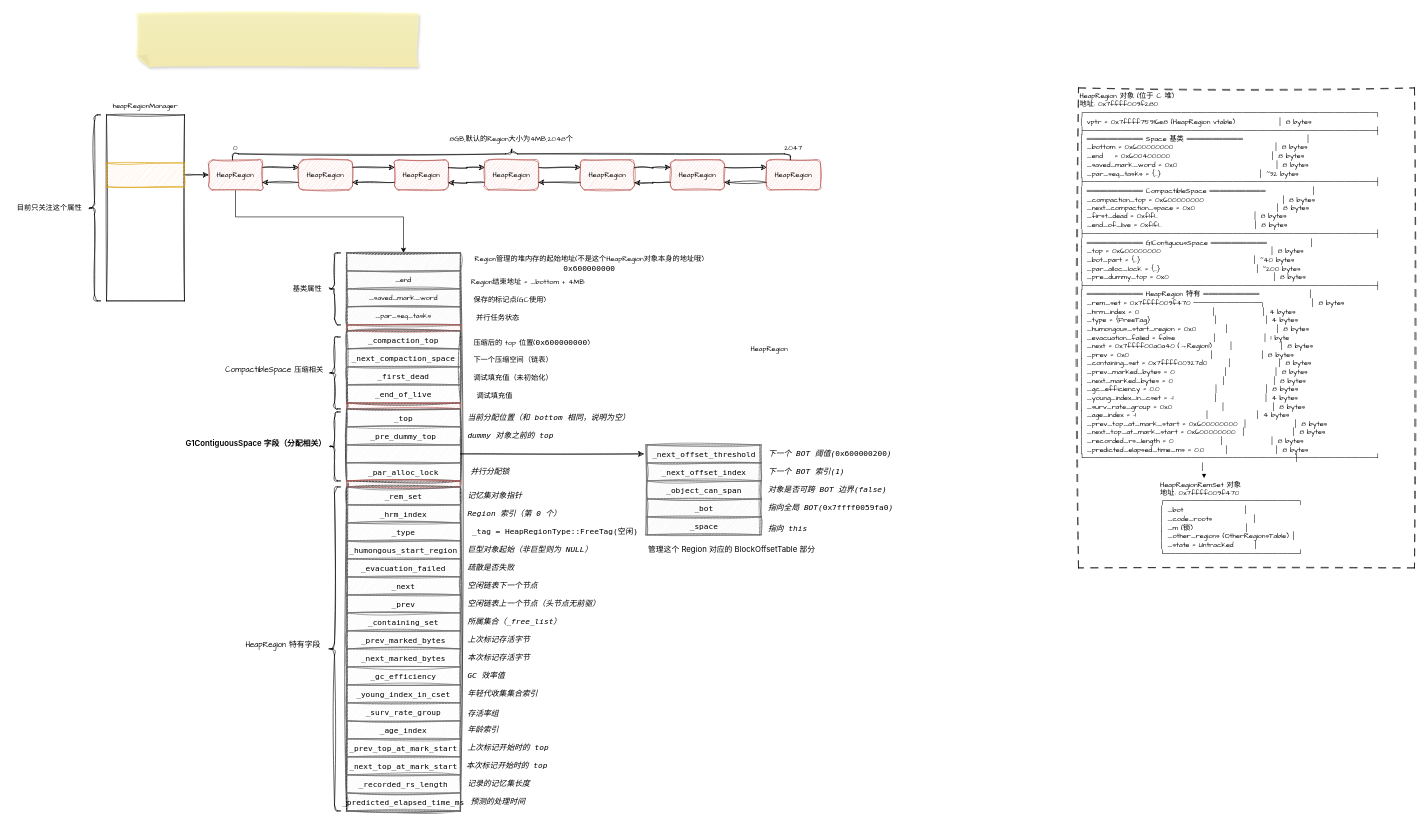
Image size: 1425x827. Some labels were removed from this diagram. The centre of each missing label's shape, as x and y in pixels:
_bot_part: point 403,453
_bottom: point 403,261
_free_list: point 145,174
堆所对应的HeapRegion是保存在 heapRegionManager中的_free_list属性中的: point 278,40
